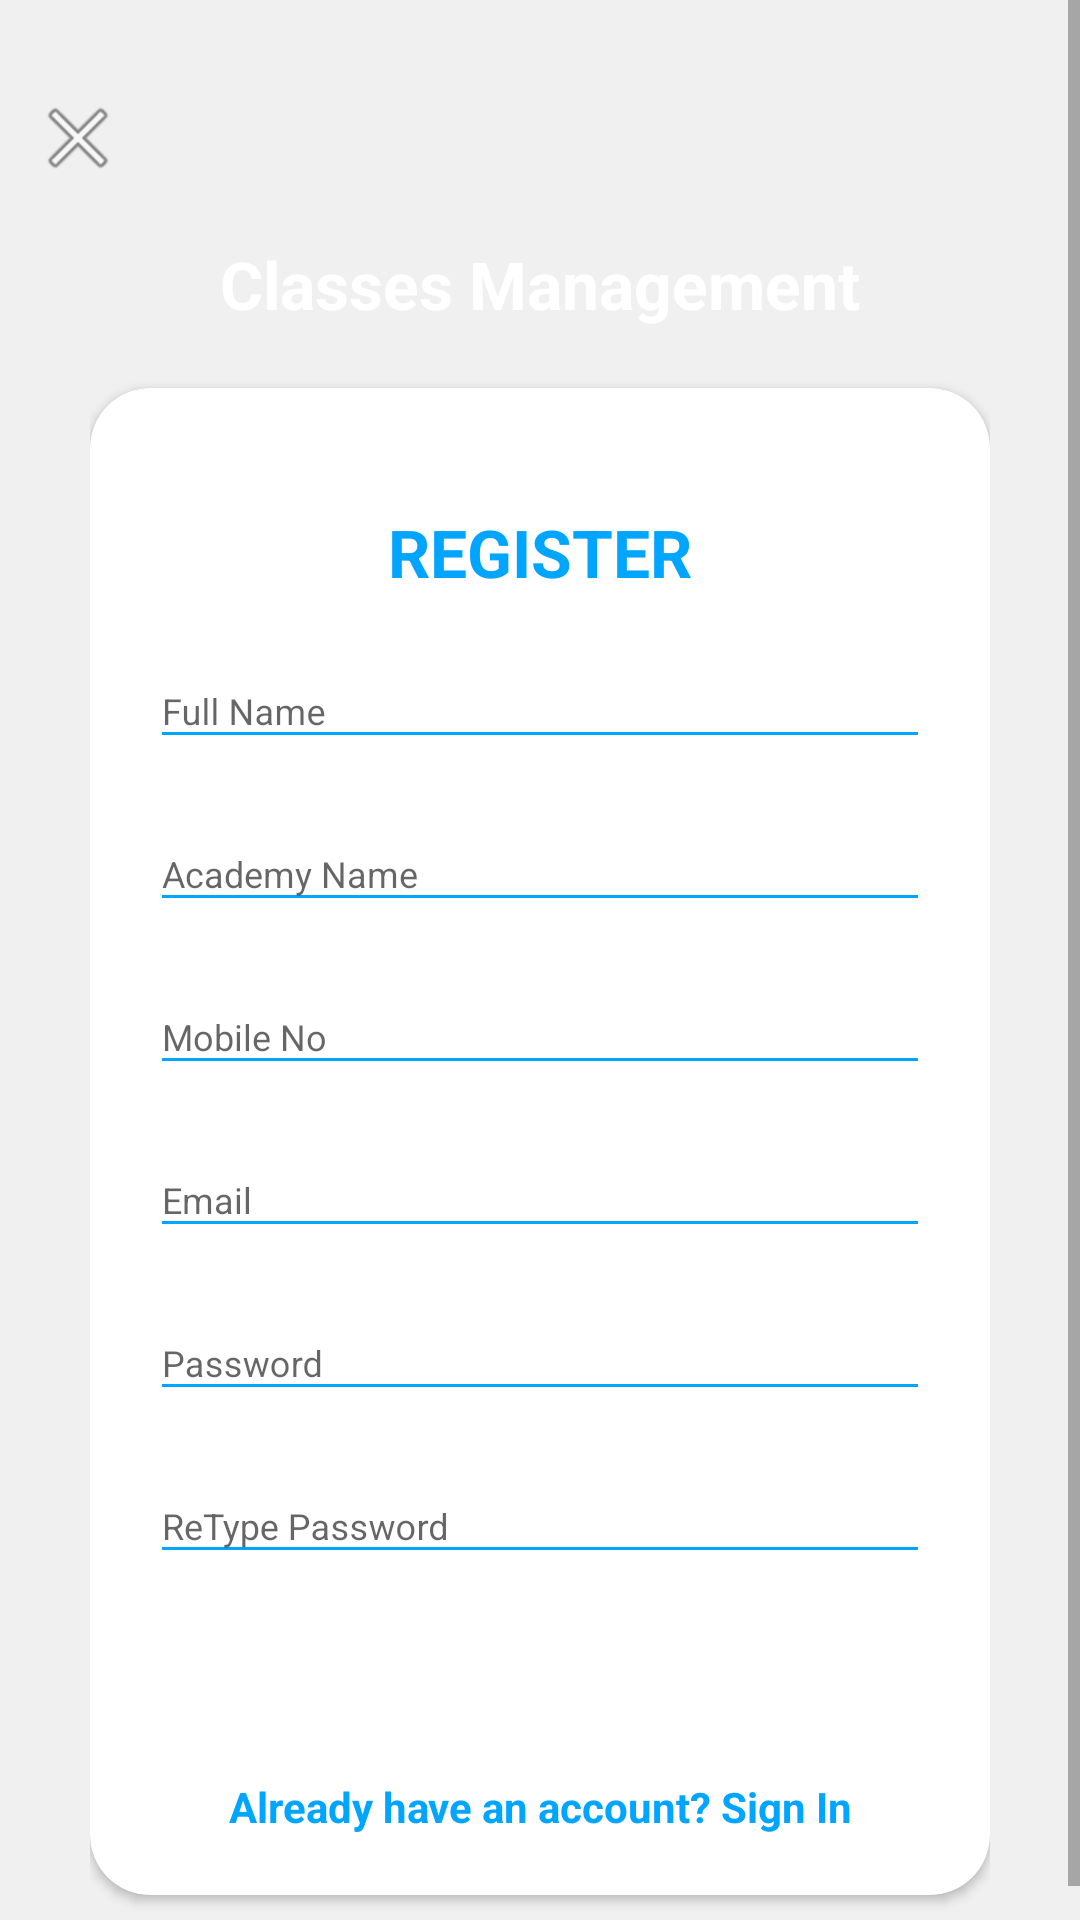

Named icons in this screenshot (1080 × 1920) and their bounding boxes, [x1, y1, x2, y2]:
close clear cancel: [48, 108, 108, 168]
